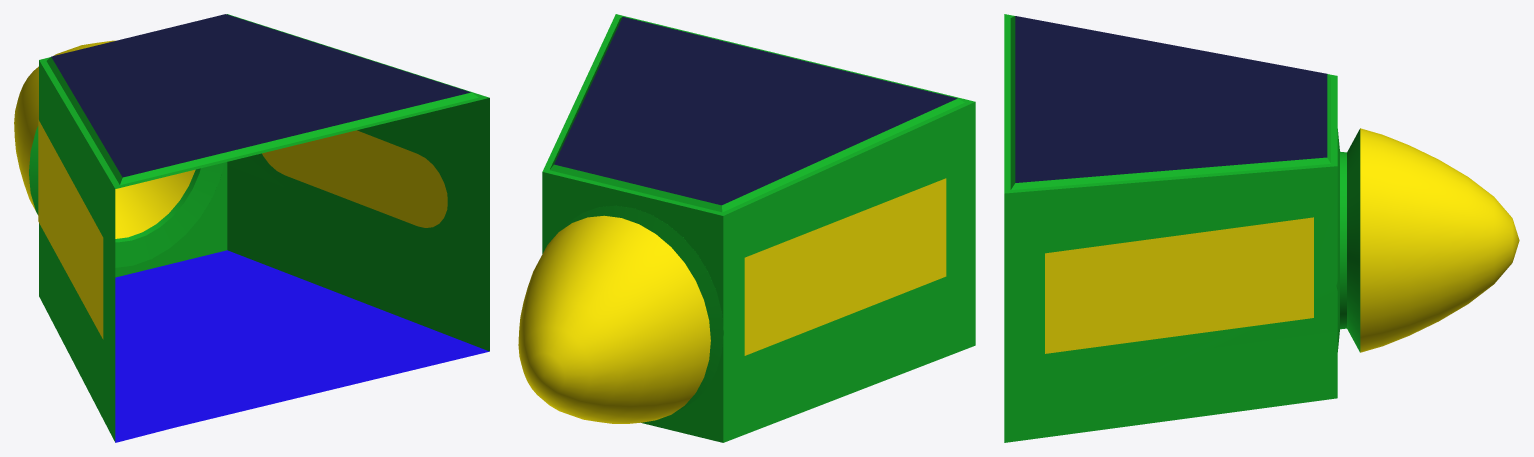
Rendered from Cockpit walls.FBX.
3 views of the same model, side by side, from view 1: azimuth 30°, elevation 25°; view 2: azimuth 150°, elevation 25°; view 3: azimuth 270°, elevation 25° (orthographic). The views are drawn at different scales.
Visible parts, largest first — view 1: Object018, Plane005, Plane004; view 2: Object018, Plane004; view 3: Object018, Plane005.
Boxes of the visible parts, bbox=[...] form: Object018: bbox=[14, 14, 489, 442]; Plane005: bbox=[262, 130, 447, 227]; Plane004: bbox=[38, 119, 103, 339]; Object018: bbox=[518, 14, 975, 442]; Plane004: bbox=[744, 178, 946, 355]; Object018: bbox=[1004, 14, 1519, 442]; Plane005: bbox=[1045, 217, 1313, 353].
Bounding box in the file's own units: 168 × 111 × 204.
